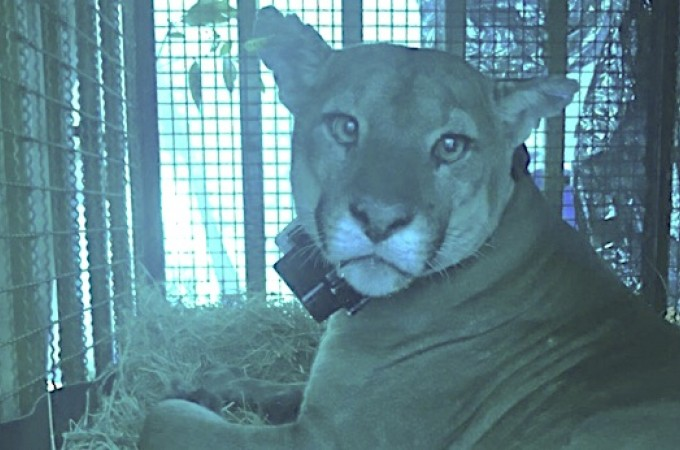OncaParda: (141, 6, 670, 445)
